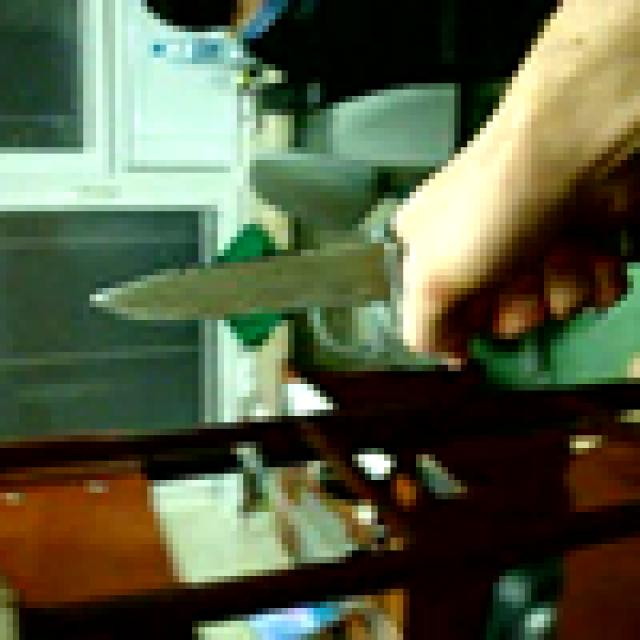Weapons: (87, 227, 406, 326)
